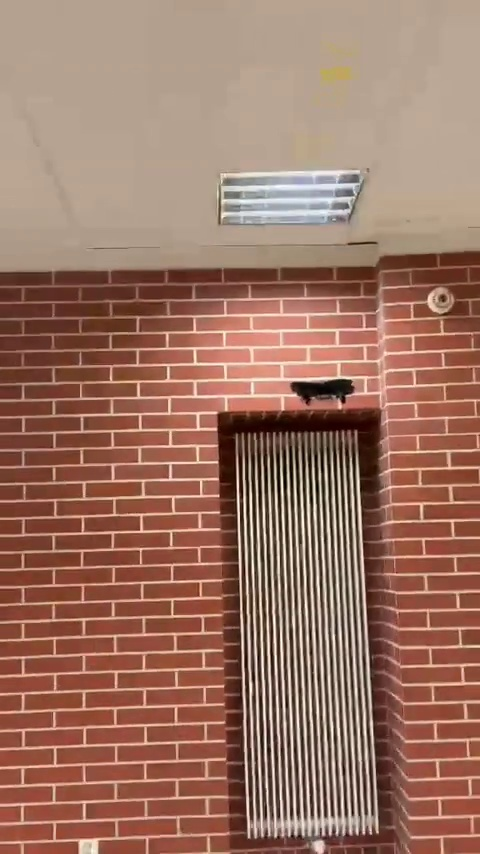drone: (288, 372, 352, 402)
